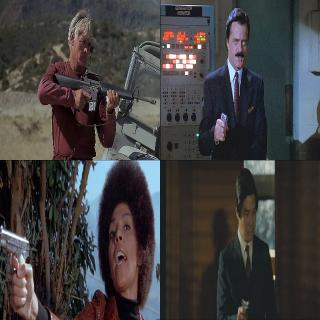gun: (42, 64, 156, 140), (0, 217, 33, 316), (237, 290, 253, 318), (217, 112, 231, 142)
